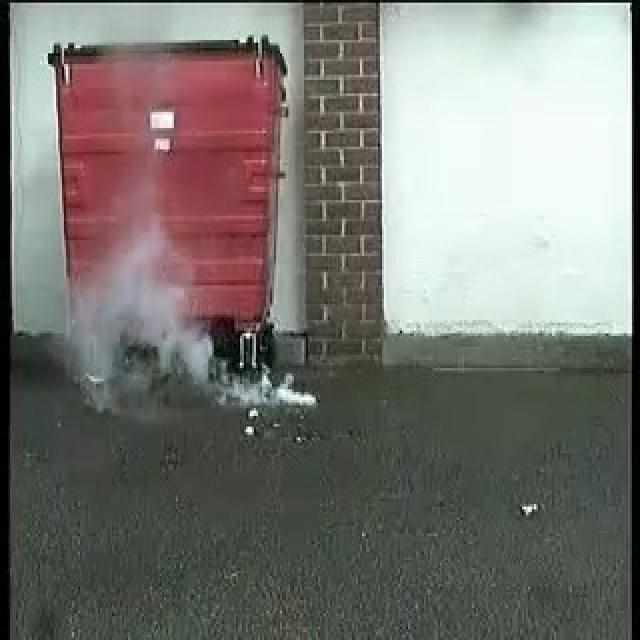smoke: (74, 232, 308, 414)
